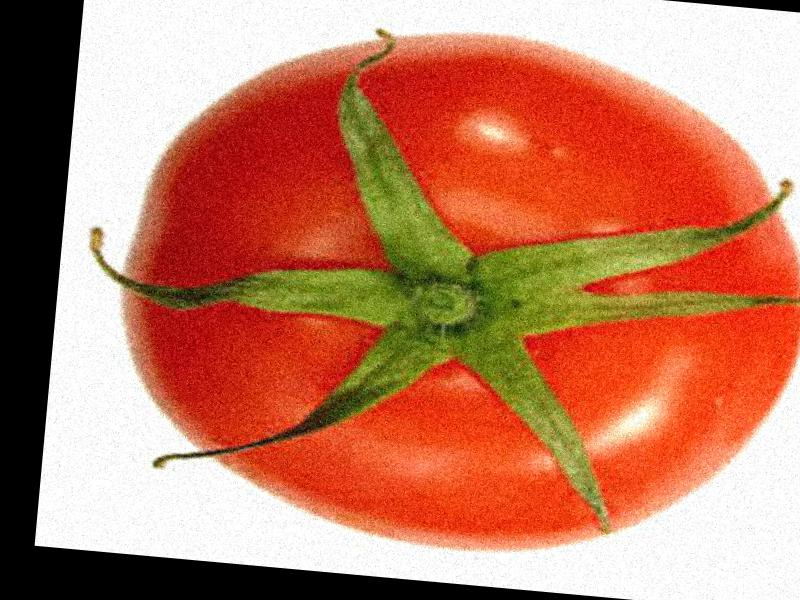Tomato: (102, 6, 800, 578)
